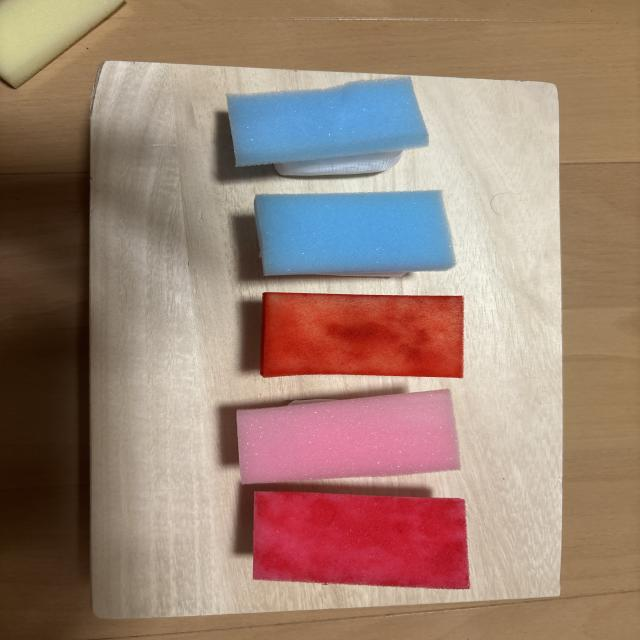NG: (227, 77, 428, 176)
ika: (254, 191, 455, 276)
maguro: (253, 491, 469, 589)
salmon: (260, 293, 464, 378)
tai: (237, 389, 460, 483)
